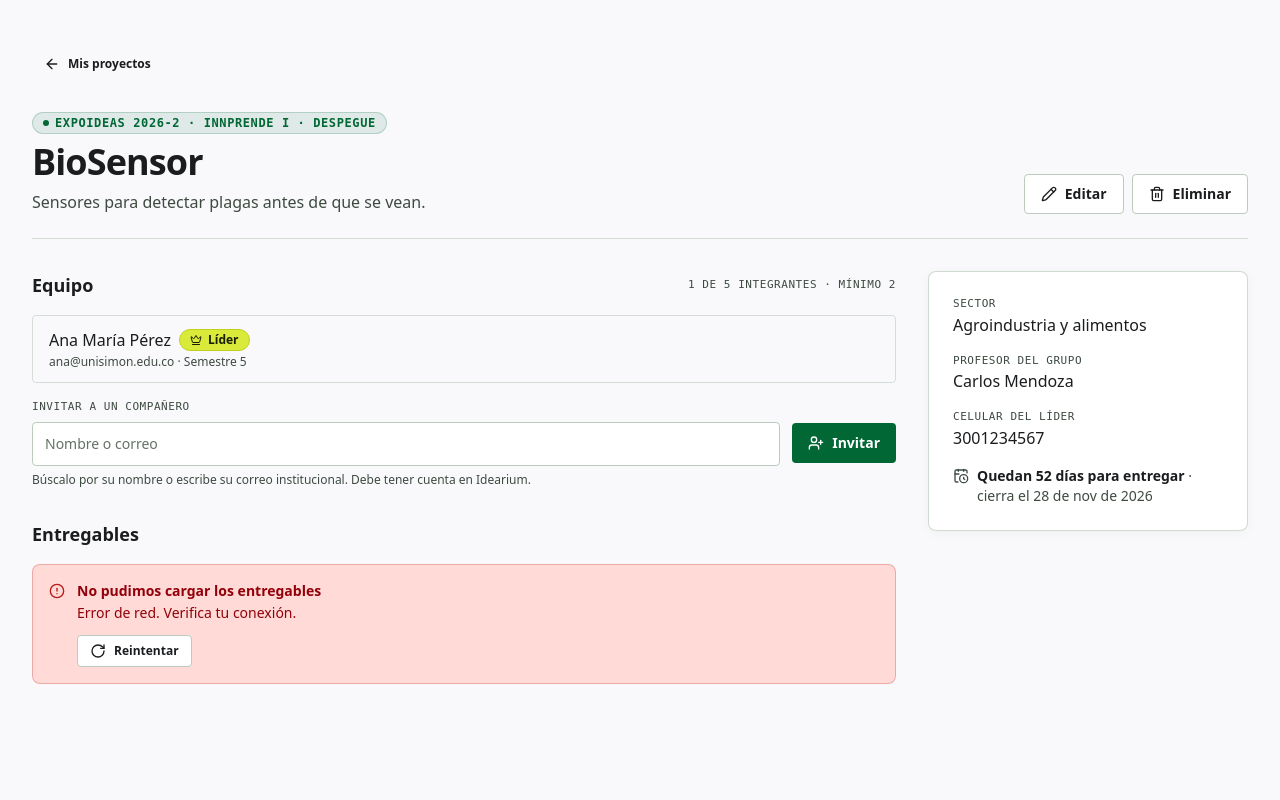
El líder gestiona el equipo › muestra en el campo el error que devuelve la API
The image size is (1280, 800).
Type "nadie@unisimon.edu.co" into the field labelled "Invitar a un compañero" at [406, 444], box left=32, top=422, right=780, bottom=466
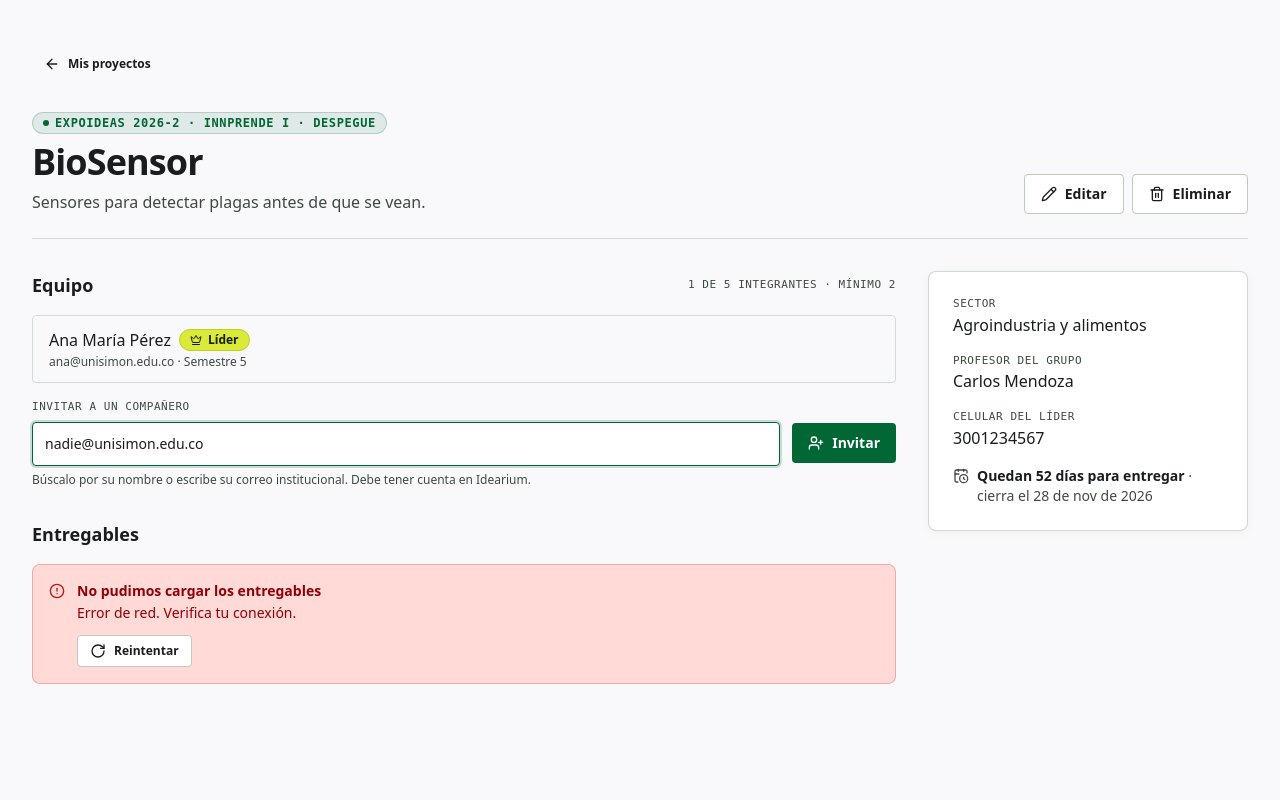
Click the button "Invitar" at [844, 443], box left=792, top=423, right=896, bottom=463
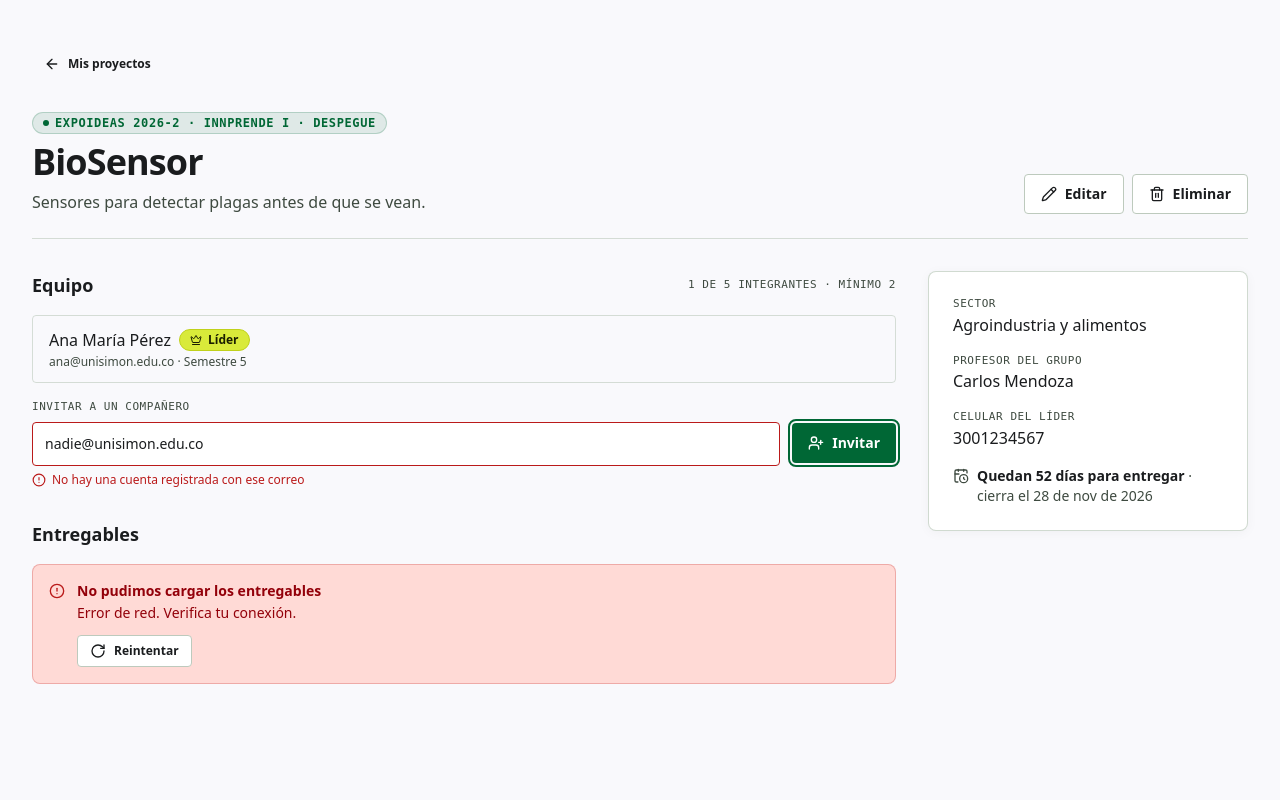
Result: the text "No hay una cuenta registrada con ese correo" is shown at left=32, top=470, right=304, bottom=488
